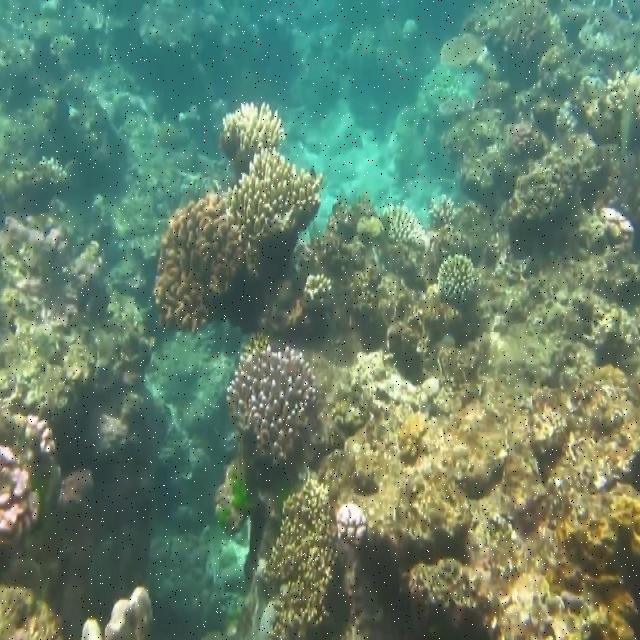reefs: (153, 146, 324, 330), (227, 344, 317, 463), (223, 100, 286, 151)
